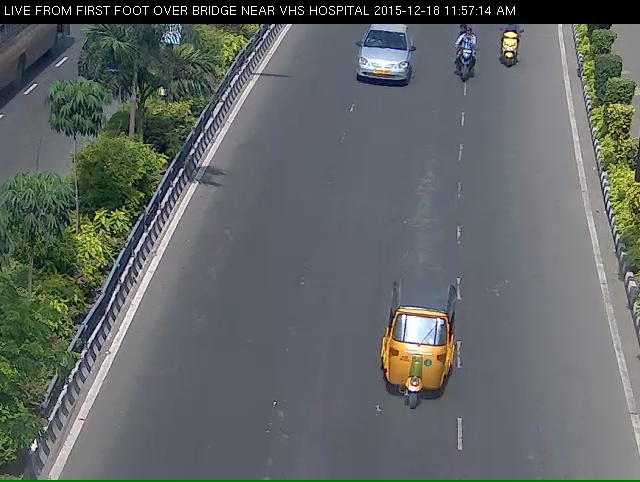Car: (373, 293, 469, 442), (350, 27, 412, 101)
Person: (496, 22, 525, 84), (447, 30, 475, 91)
